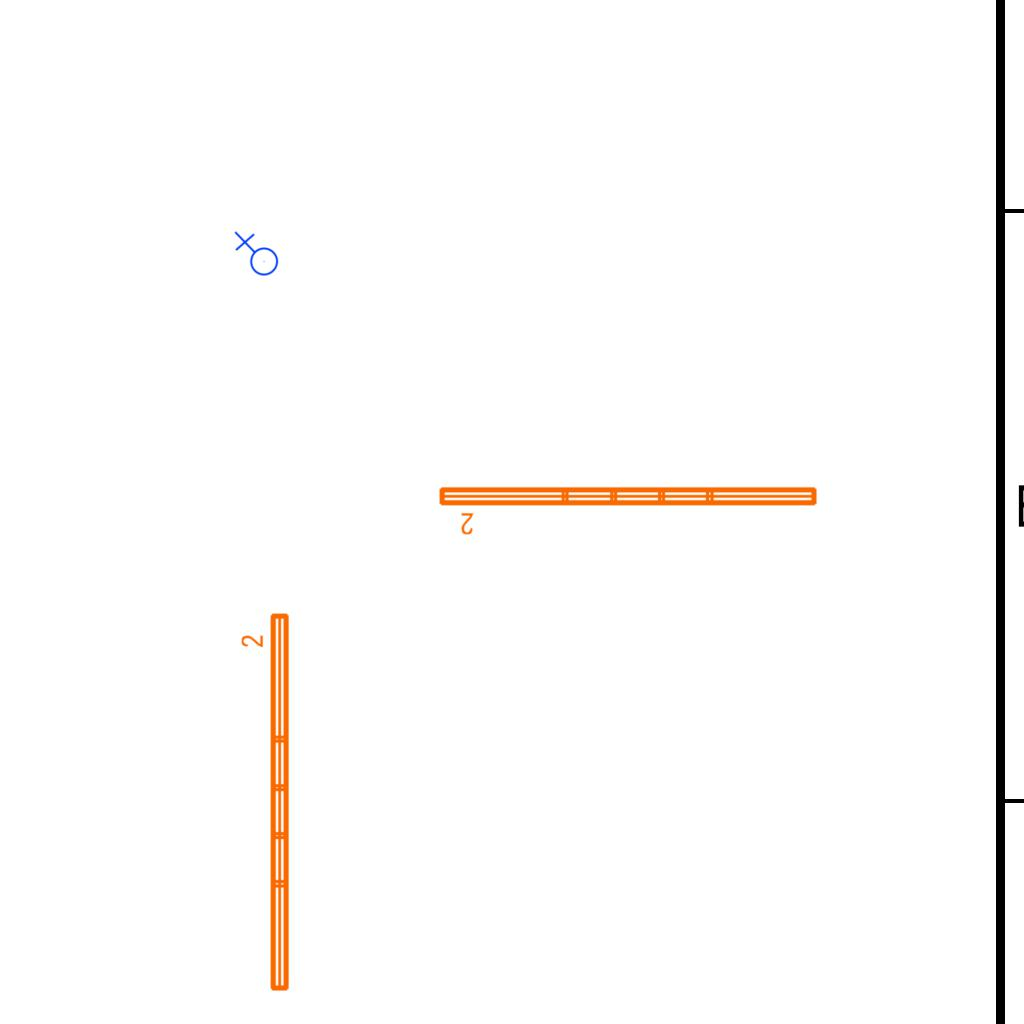Ambulanz_Pendelleuchte_LED: (435, 481, 822, 537), (239, 609, 295, 996)
Elektroanschluss_allgemein_230V_Geraeteanschlussdose_230V: (232, 231, 279, 280)
